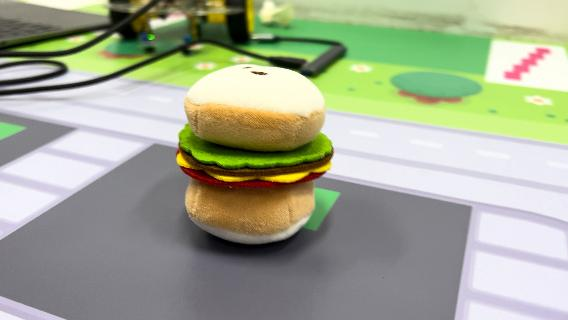sandwich: (174, 61, 336, 246)
